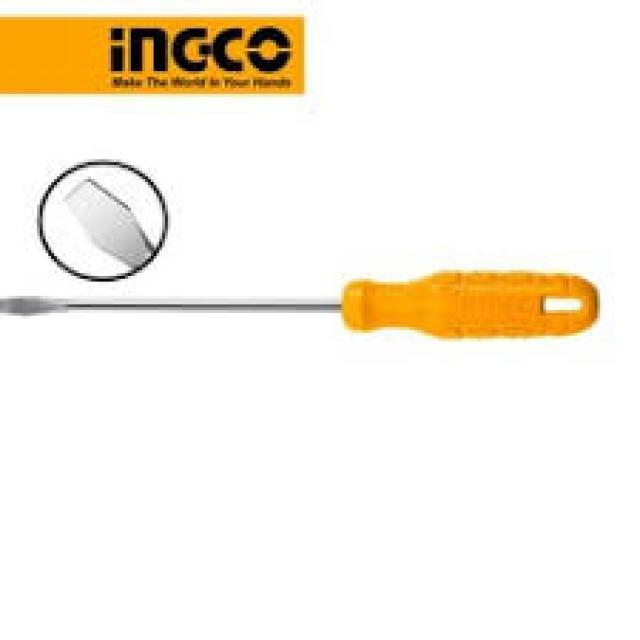screwdriver: (280, 8, 366, 626)
